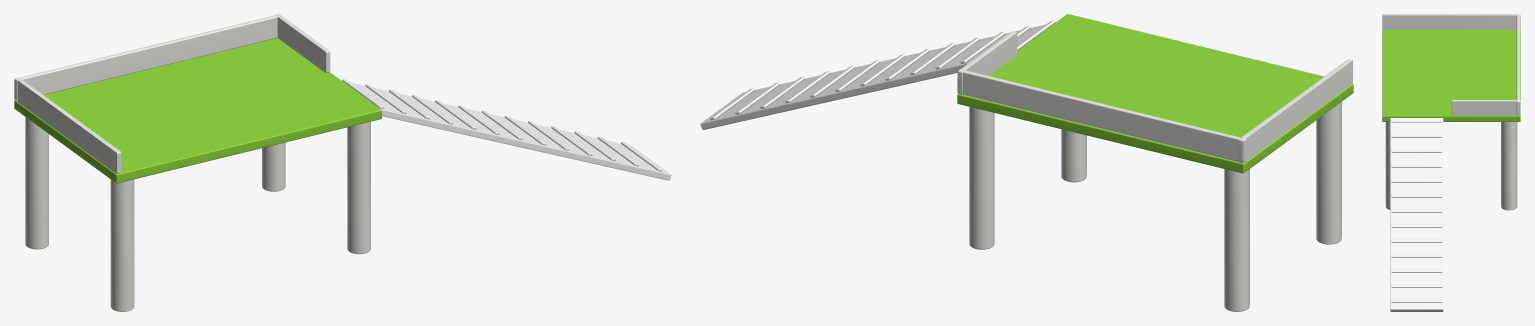
File: platform.glb
The picture shows the model from 3 angles, left to right: view 1: azimuth 30°, elevation 25°; view 2: azimuth 150°, elevation 25°; view 3: azimuth 270°, elevation 25°; orthographic projection. The views are drawn at different scales.
Parts seen in each view (by area): view 1: platform.001; view 2: platform.001; view 3: platform.001.
Boxes of the visible parts, <box> form: platform.001: <box>14,14,671,311</box>; platform.001: <box>700,14,1353,311</box>; platform.001: <box>1382,14,1520,311</box>.
Size of the model in its own units: 37.99 by 10.89 by 12.
